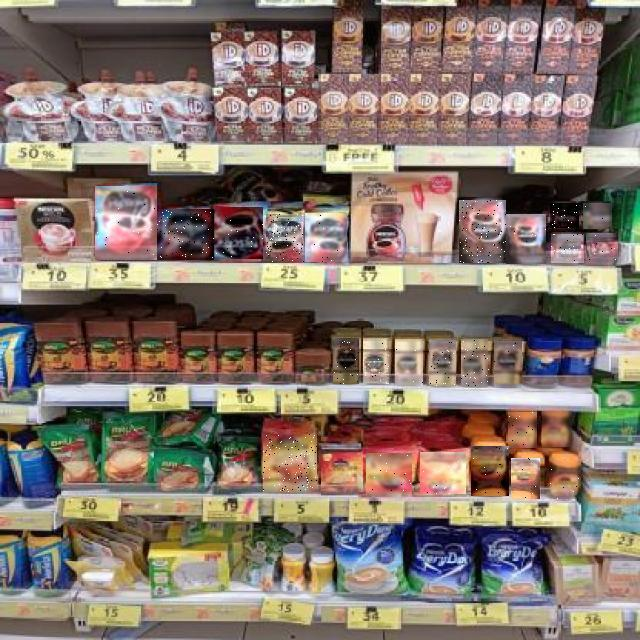Coffee: (95, 186, 157, 260), (263, 434, 317, 492), (459, 200, 506, 263), (157, 209, 214, 260), (211, 207, 263, 259), (305, 213, 347, 262), (506, 214, 546, 264), (420, 452, 466, 494), (366, 454, 412, 496), (471, 446, 509, 496), (266, 215, 305, 263), (462, 339, 490, 387), (395, 339, 423, 386), (512, 458, 544, 499), (495, 342, 523, 388), (429, 340, 456, 386), (550, 459, 581, 499), (333, 338, 359, 384), (363, 339, 389, 385), (542, 411, 572, 447), (508, 412, 537, 448), (551, 234, 584, 263), (587, 234, 619, 262), (584, 203, 614, 229), (550, 203, 579, 228)
